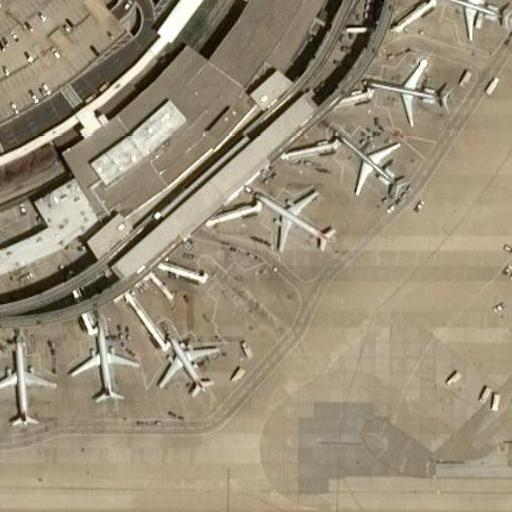Aircraft: (66, 325, 137, 402), (367, 58, 454, 119), (256, 190, 335, 250), (0, 342, 53, 425), (153, 331, 217, 398), (341, 135, 410, 194), (431, 0, 512, 34)
